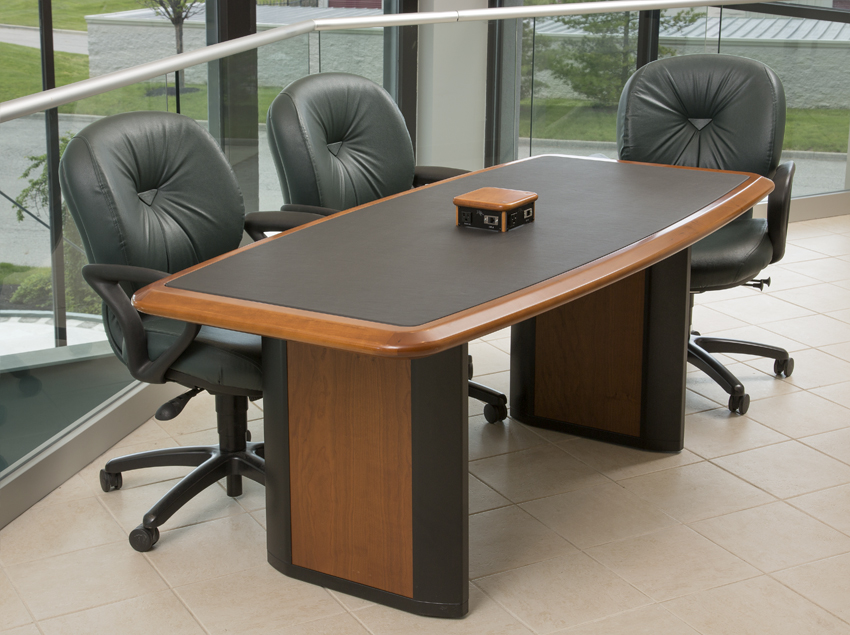conference_table: (131, 153, 774, 619)
